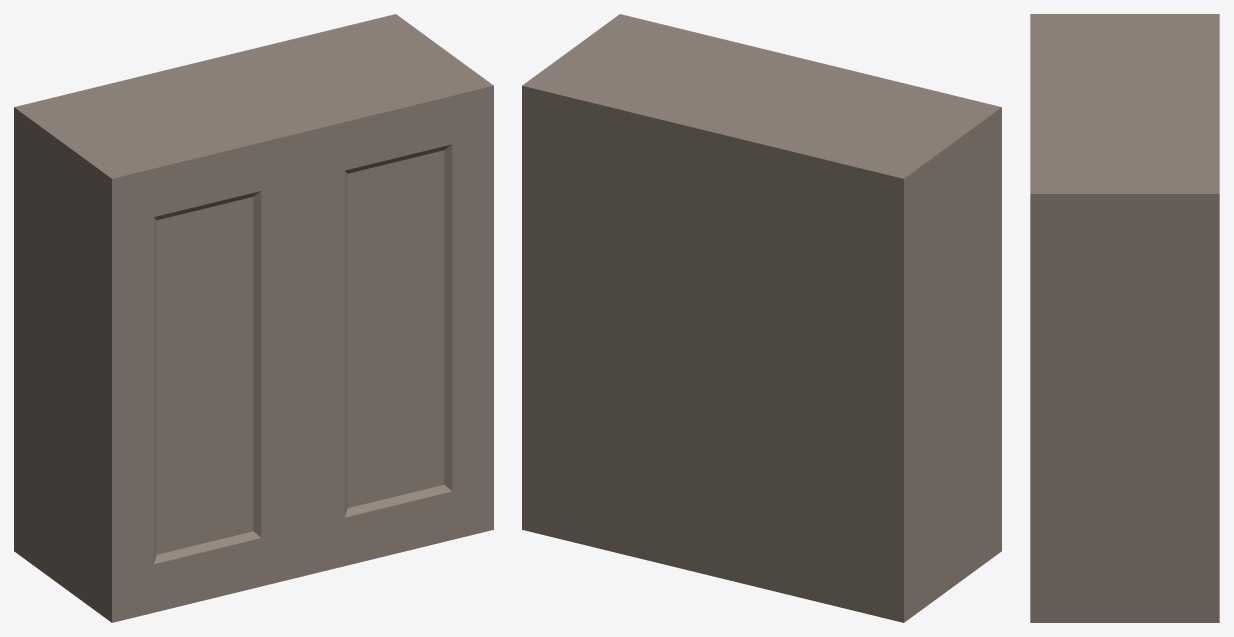
File: WHP-Wall-Cabinet-Double-Door-Shelves_std_001_W27in.glb
3 renders of one model, left to right at view 1: azimuth 30°, elevation 25°; view 2: azimuth 150°, elevation 25°; view 3: azimuth 270°, elevation 25°, orthographic. The views are drawn at different scales.
Visible parts, largest first — view 1: WHP-Wall-Cabinet-Double-Door-Shelves.std.001_W27in; view 2: WHP-Wall-Cabinet-Double-Door-Shelves.std.001_W27in; view 3: WHP-Wall-Cabinet-Double-Door-Shelves.std.001_W27in.
Part boxes in pixels (<box>): WHP-Wall-Cabinet-Double-Door-Shelves.std.001_W27in: <box>14,14,493,622</box>; WHP-Wall-Cabinet-Double-Door-Shelves.std.001_W27in: <box>522,14,1001,622</box>; WHP-Wall-Cabinet-Double-Door-Shelves.std.001_W27in: <box>1030,14,1219,622</box>.
Size of the model in its own units: 0.6858 by 0.762 by 0.3048.
